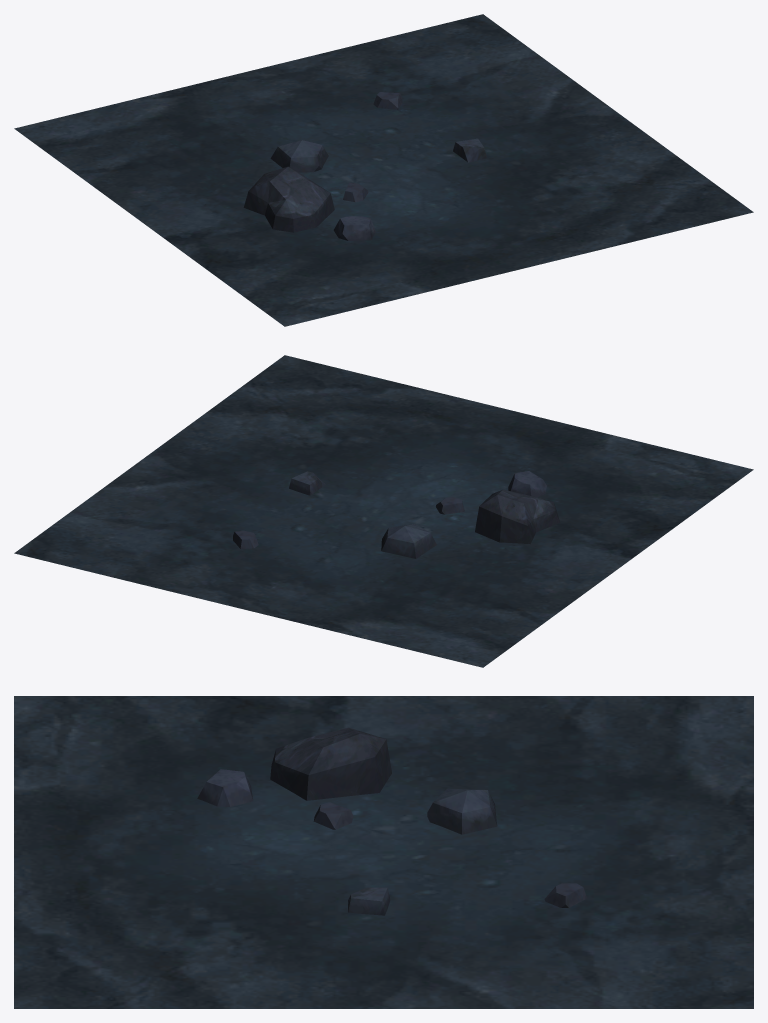
Rendered from mine_rubble_06.fbx.
The picture shows the model from 3 angles, top to bottom: view 1: azimuth 30°, elevation 25°; view 2: azimuth 150°, elevation 25°; view 3: azimuth 270°, elevation 25°; orthographic projection. The views are drawn at different scales.
Visible parts, largest first — view 1: obj1.040; view 2: obj1.040; view 3: obj1.040.
Part boxes in pixels (x1,y1,x2,y2): obj1.040: (14,14,753,326); obj1.040: (14,355,753,667); obj1.040: (14,696,753,1008).
Bounding box in the file's own units: 4 × 0.3424 × 4.
